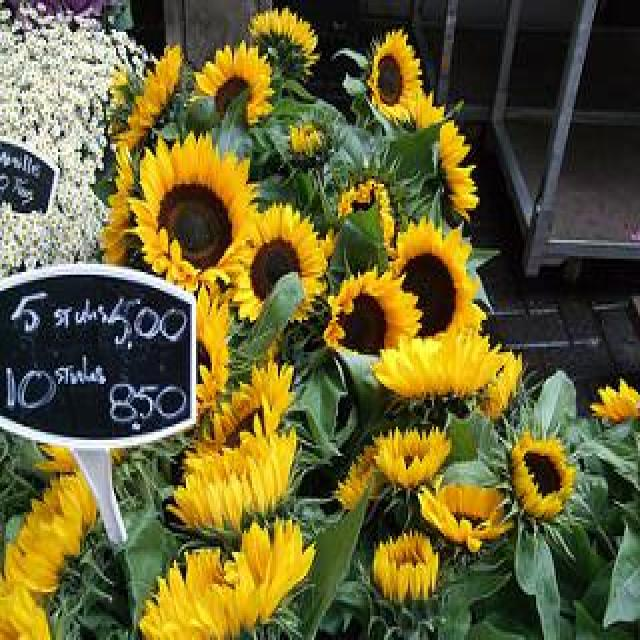sunflower: (131, 131, 263, 296), (163, 422, 305, 548), (392, 220, 484, 343), (240, 207, 324, 321), (324, 269, 420, 363), (418, 478, 510, 550), (194, 44, 274, 124), (508, 431, 574, 516), (367, 27, 421, 117)
